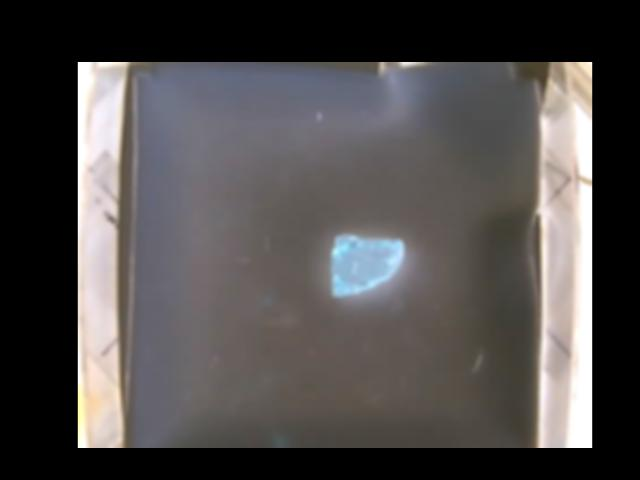Brisk: (332, 235, 404, 296)
